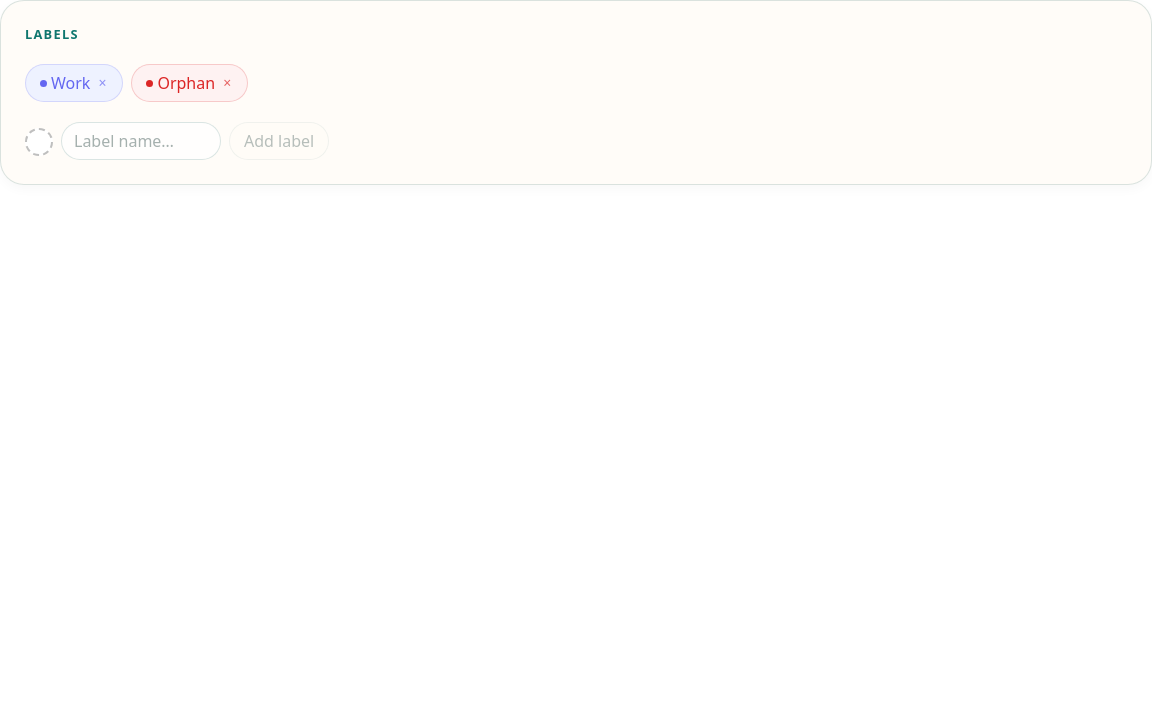
Test: LabelManager destructive-delete confirmation (ISS-082) › an unused label uses the shorter "no cascade" copy
The image size is (1152, 720).
Click the button named "Delete Orphan" at (227, 83), box [221,76,233,90]
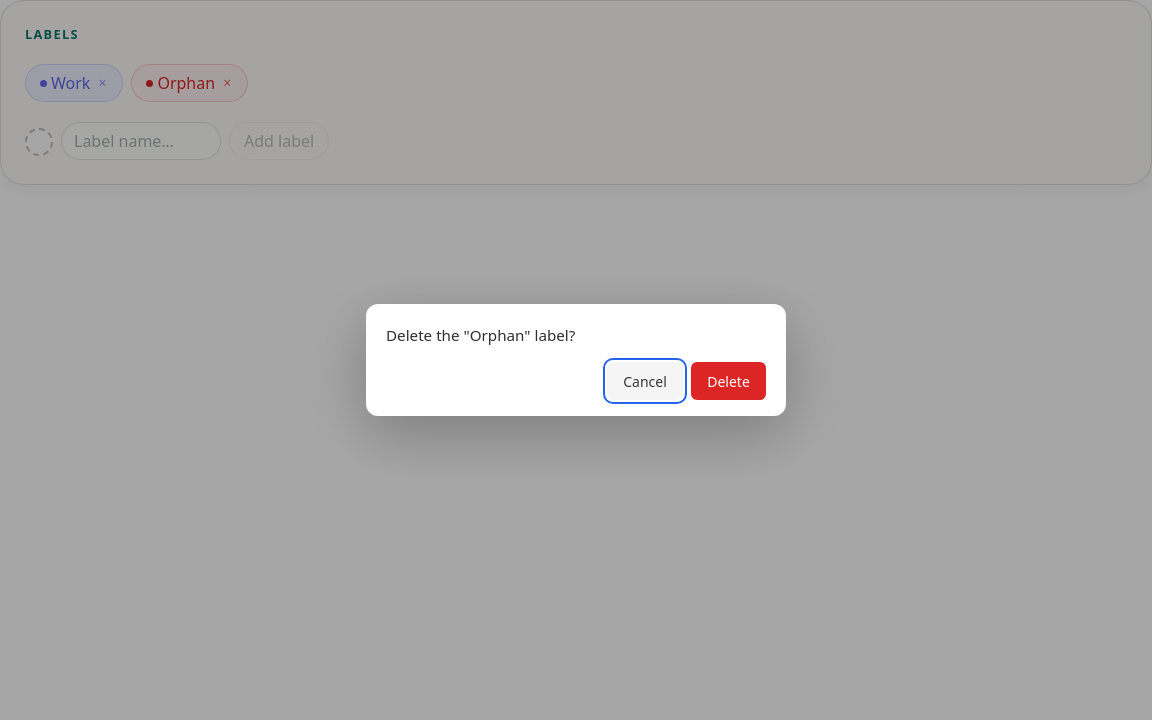
expect the text "Delete the \"Orphan\" label?" is shown: met, box [386,325,575,345]
